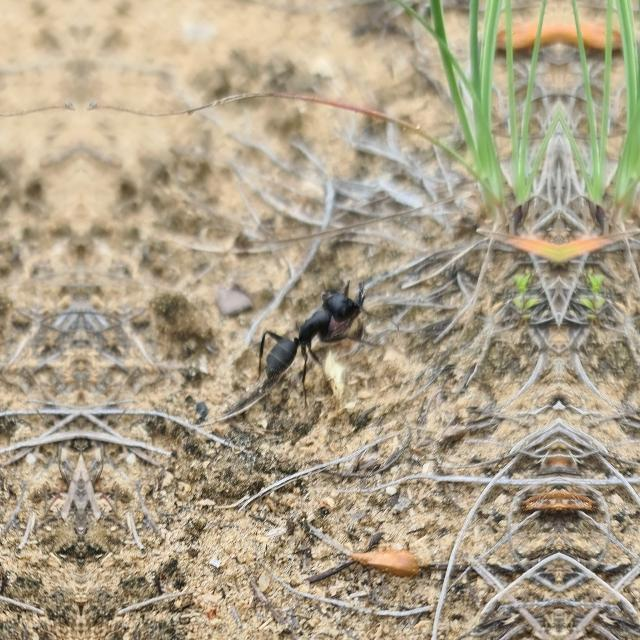Camponotus: (226, 262, 392, 400)
